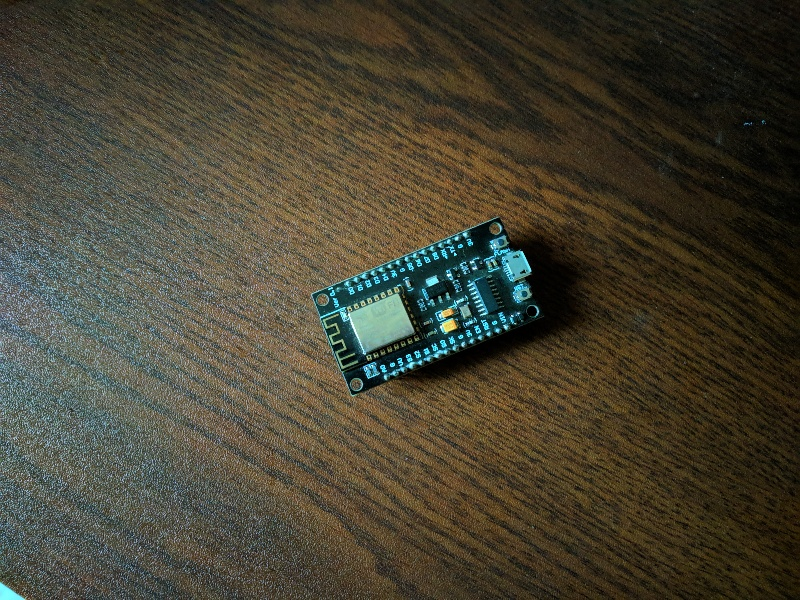NodeMCU: (305, 214, 551, 401)
